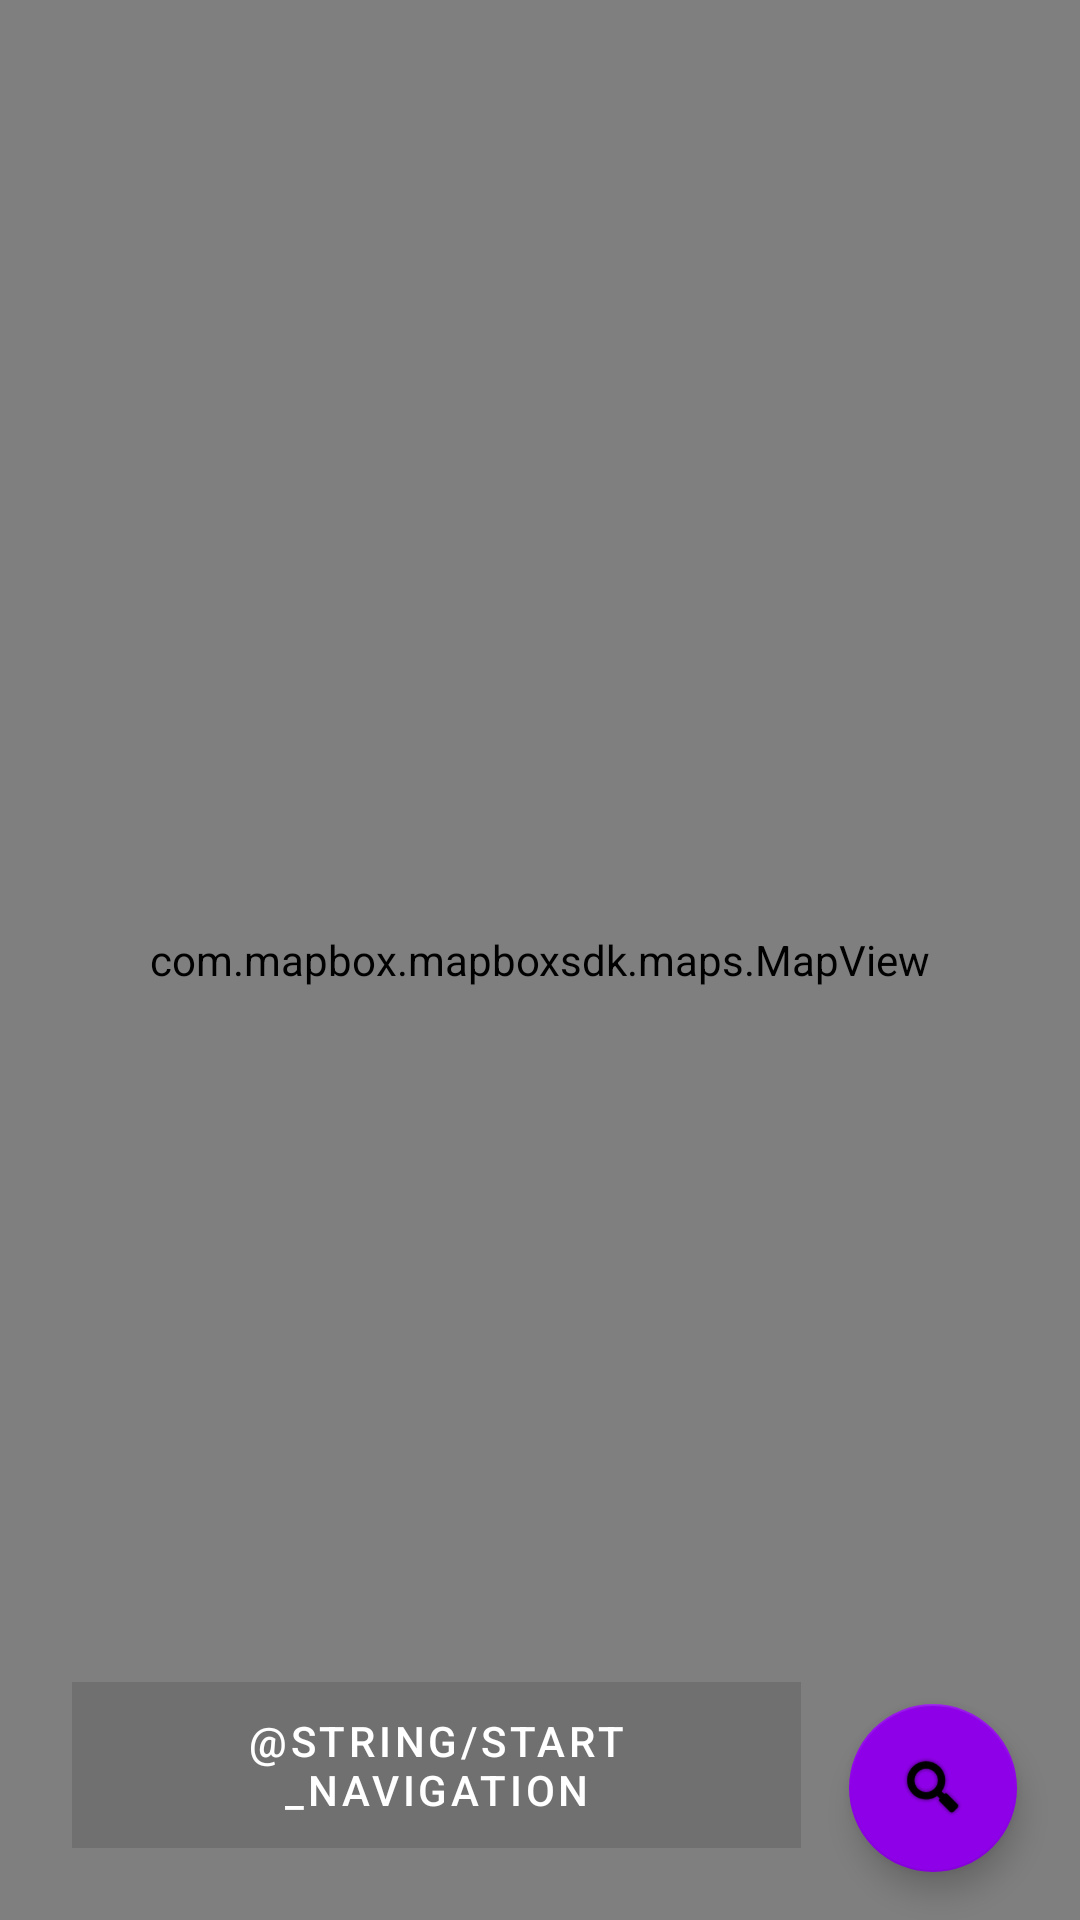

Icons on this 1080px×1920px Android screen, each with its box as box=[x1, y1, x2, y2]:
search category: box=[849, 1704, 1017, 1872]
